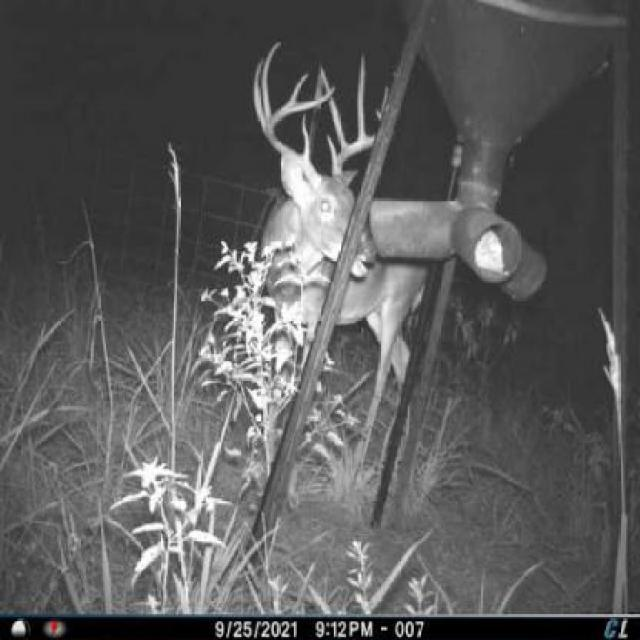Deer: (244, 27, 436, 487)
